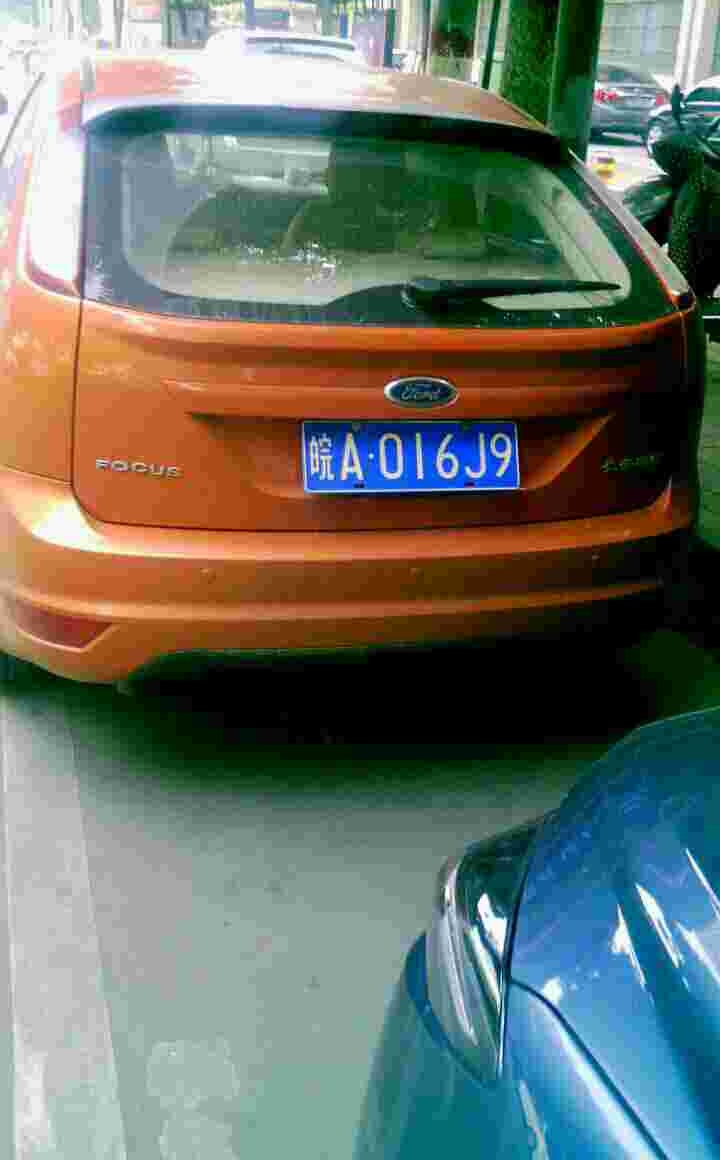license_plate: (312, 423, 522, 499)
